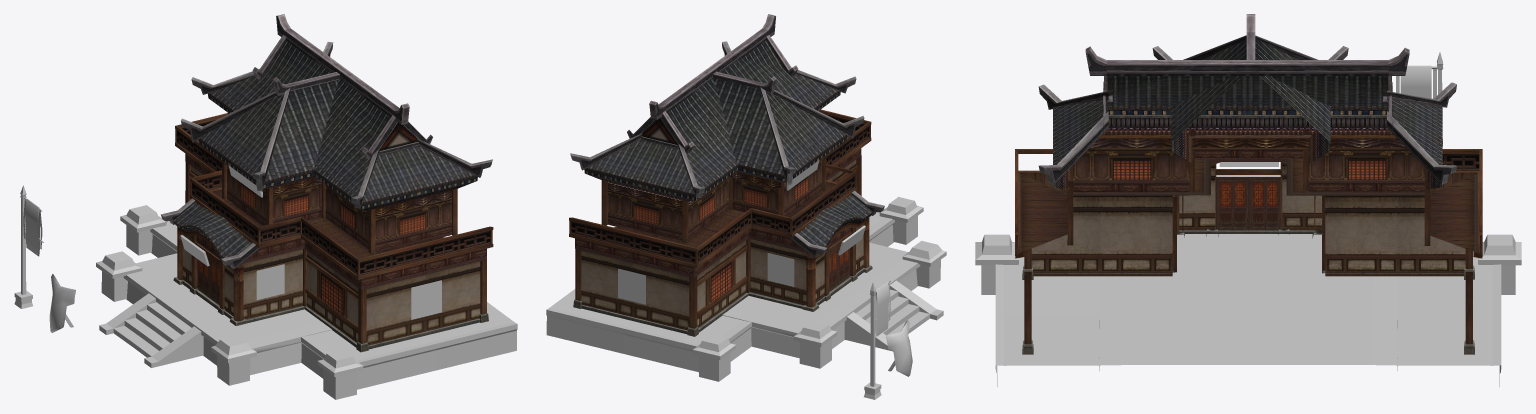
Rendered from s7_3d_city_bingying_02.FBX.
The picture shows the model from 3 angles, left to right: view 1: azimuth 30°, elevation 25°; view 2: azimuth 150°, elevation 25°; view 3: azimuth 270°, elevation 25°; orthographic projection. The views are drawn at different scales.
Parts seen in each view (by area): view 1: 002, 003, 001, s7_3d_city_bingying_qizi_01, s7_3d_city_bingying_dunpai_01; view 2: 002, 003, 001, s7_3d_city_bingying_qizi_01, s7_3d_city_bingying_dunpai_01; view 3: 002, 003, s7_3d_city_bingying_qizi_01.
Part boxes in pixels (<box>): 002: <box>160,14,493,352</box>; 003: <box>96,205,517,399</box>; 001: <box>180,165,441,319</box>; s7_3d_city_bingying_qizi_01: <box>14,185,43,308</box>; s7_3d_city_bingying_dunpai_01: <box>49,274,75,332</box>; 002: <box>569,14,884,336</box>; 003: <box>546,197,946,381</box>; 001: <box>618,160,865,304</box>; s7_3d_city_bingying_qizi_01: <box>864,281,890,399</box>; s7_3d_city_bingying_dunpai_01: <box>886,320,912,376</box>; 002: <box>1015,14,1482,354</box>; 003: <box>975,234,1521,386</box>; s7_3d_city_bingying_qizi_01: <box>1396,52,1443,98</box>.
Size of the model in its own units: 37.5 by 26.86 by 42.61.
